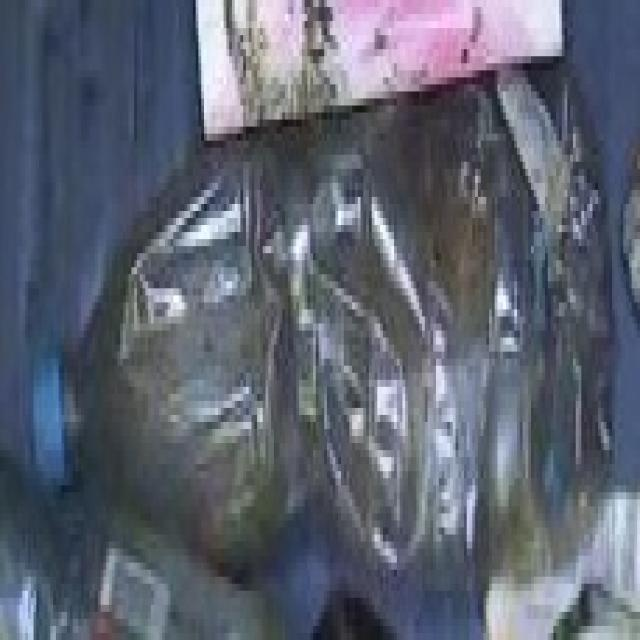plasticbottlecap: (11, 319, 87, 529)
